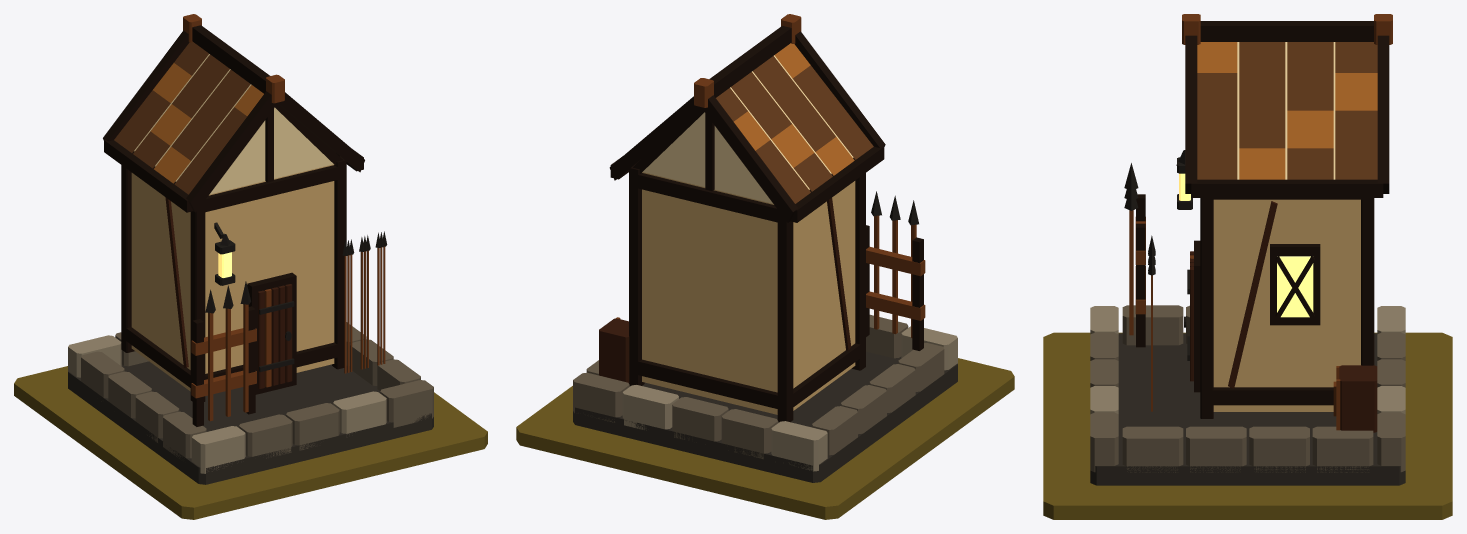
Rendered from fletcher_t4.glb.
3 views of the same model, side by side, from view 1: azimuth 30°, elevation 25°; view 2: azimuth 150°, elevation 25°; view 3: azimuth 270°, elevation 25° (orthographic). The views are drawn at different scales.
Visible parts, largest first — view 1: MMR | fletcher | T04 Architecture.001, MMR | fletcher | Tier 04 Ground.001; view 2: MMR | fletcher | T04 Architecture.001, MMR | fletcher | Tier 04 Ground.001; view 3: MMR | fletcher | T04 Architecture.001, MMR | fletcher | Tier 04 Ground.001.
Part boxes in pixels (bbox=[...]): MMR | fletcher | T04 Architecture.001: bbox=[68, 14, 433, 484]; MMR | fletcher | Tier 04 Ground.001: bbox=[14, 366, 487, 519]; MMR | fletcher | T04 Architecture.001: bbox=[573, 14, 957, 482]; MMR | fletcher | Tier 04 Ground.001: bbox=[516, 358, 1014, 519]; MMR | fletcher | T04 Architecture.001: bbox=[1090, 14, 1405, 485]; MMR | fletcher | Tier 04 Ground.001: bbox=[1043, 332, 1452, 519].
Size of the model in its own units: 1.3 by 1.46 by 1.3.
2 materials, 1 textured.
